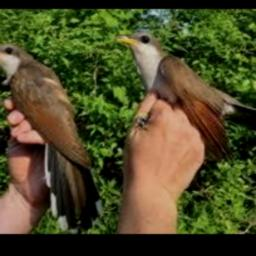Cuckoo: (0, 43, 100, 231), (117, 32, 256, 165)
